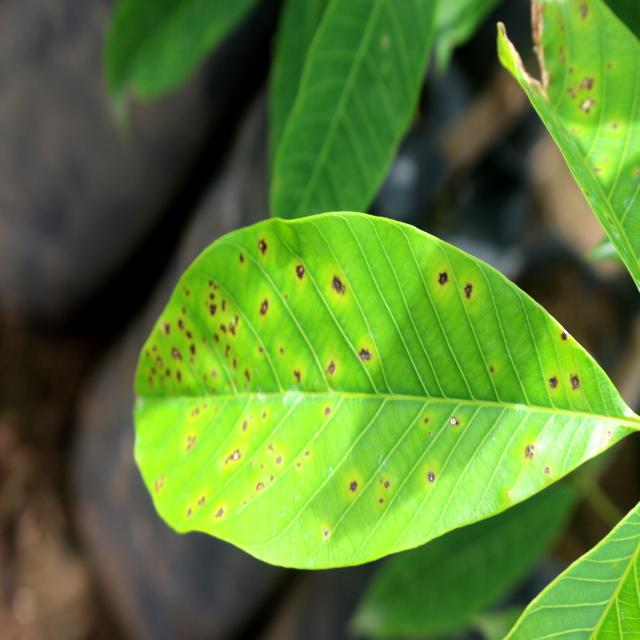Colletotrichum: (570, 375, 579, 389), (296, 265, 304, 279), (439, 272, 447, 285), (550, 376, 558, 388), (464, 284, 472, 295), (350, 480, 357, 492), (428, 473, 434, 482), (561, 332, 567, 341)
